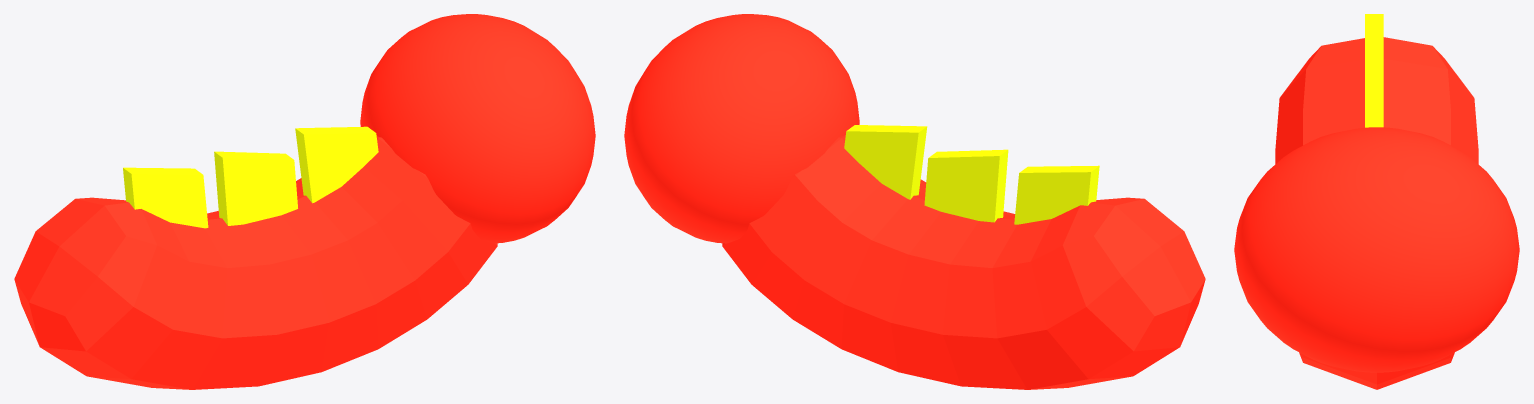
The picture shows the model from 3 angles, left to right: view 1: azimuth 30°, elevation 25°; view 2: azimuth 150°, elevation 25°; view 3: azimuth 270°, elevation 25°; orthographic projection. The views are drawn at different scales.
Visible parts, largest first — view 1: Plane.021; view 2: Plane.021; view 3: Plane.021.
Part boxes in pixels (box(x1,y1,x2,y2)): Plane.021: box(14, 14, 595, 389); Plane.021: box(624, 14, 1205, 389); Plane.021: box(1234, 14, 1519, 389).
Size of the model in its own units: 95.87 by 49.72 by 39.84.
